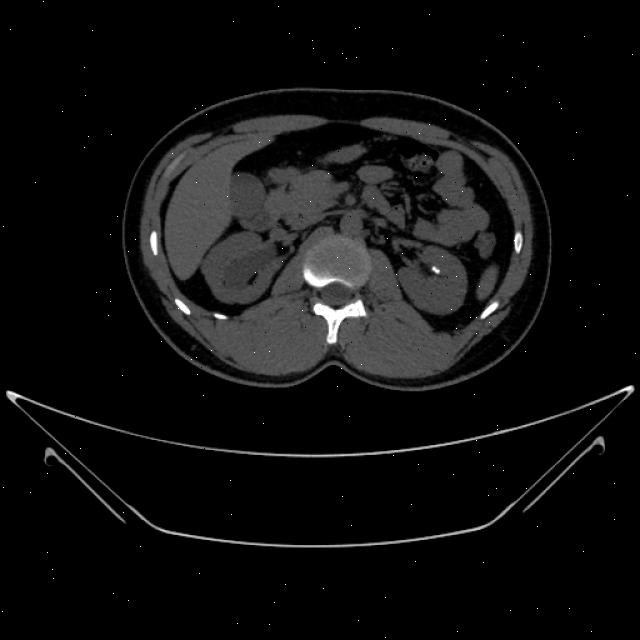kidneystone: (431, 266, 440, 274)
